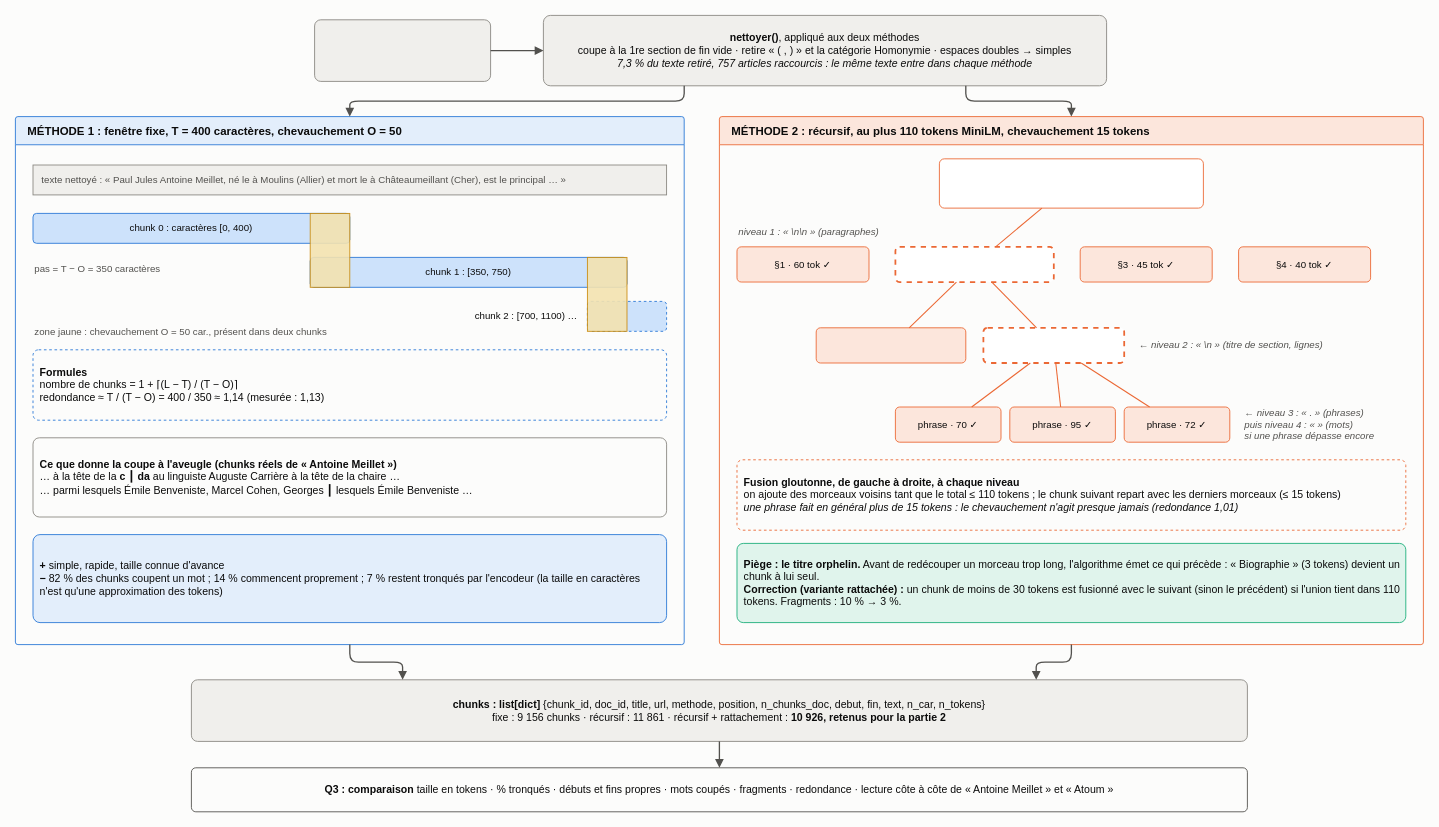
The diagram is 1439 pixels wide and 827 high, and some of its shapes have lost their labels. Here are the shapes that lost their labels. From the top down, the centre of each, then its label:
At (402,50): "df['body'] 1 000 articles bruts".
At (1071,183): "texte ≤ 110 tokens ? non → couper sur le 1er séparateur présent".
At (974,264): "§2 · 240 tok ✗ trop long".
At (890,345): "« Biographie » · 3 tok ✓".
At (1053,344): "ligne · 237 tok ✗".
